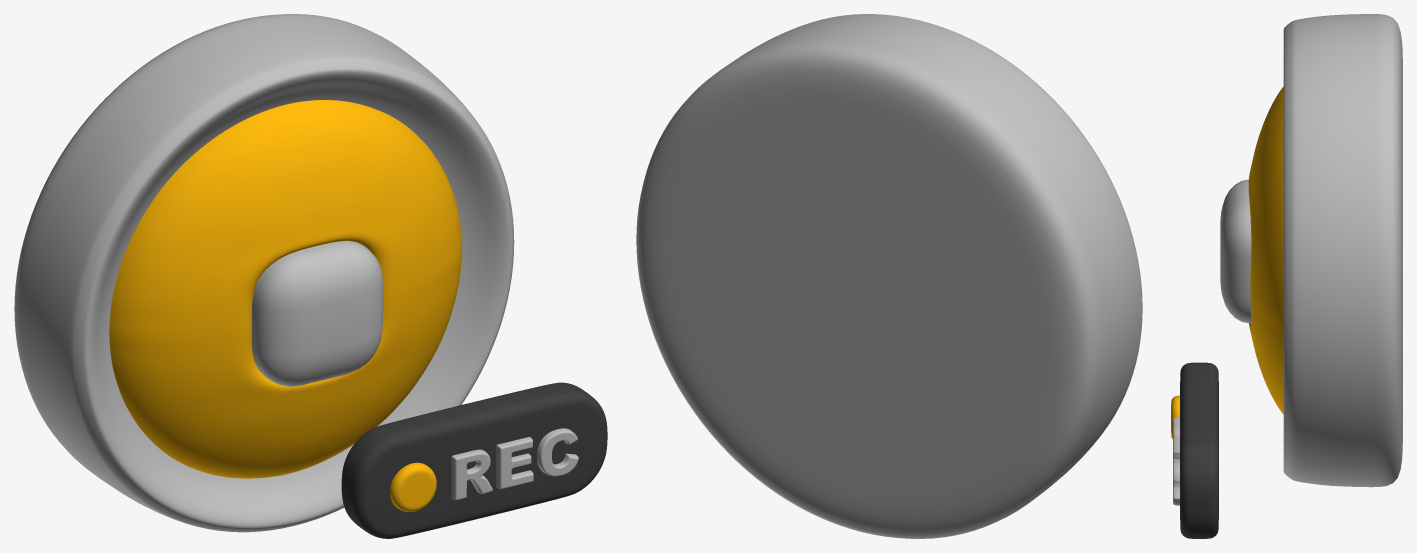
The model's file is recording-message-animated-3d-icon-1225521112684.glb.
3 views of the same model, side by side, from view 1: azimuth 30°, elevation 25°; view 2: azimuth 150°, elevation 25°; view 3: azimuth 270°, elevation 25° (orthographic). The views are drawn at different scales.
Visible parts, largest first — view 1: Recording Base 1, Recording Base 2, Base Rec, Recording Indicator, Text Rec, Dot; view 2: Recording Base 1; view 3: Recording Base 1, Recording Base 2, Base Rec, Recording Indicator, Text Rec.
Boxes of the visible parts, <box> form: Recording Base 1: <box>14,14,514,532</box>; Recording Base 2: <box>109,100,461,478</box>; Base Rec: <box>341,382,607,538</box>; Recording Indicator: <box>252,241,382,386</box>; Text Rec: <box>451,428,578,500</box>; Dot: <box>390,462,436,511</box>; Recording Base 1: <box>636,14,1142,538</box>; Recording Base 1: <box>1283,14,1402,487</box>; Recording Base 2: <box>1248,86,1283,414</box>; Base Rec: <box>1180,362,1218,538</box>; Recording Indicator: <box>1220,179,1251,323</box>; Text Rec: <box>1173,417,1179,505</box>.
Size of the model in its own units: 1.24 by 1.17 by 0.5715.
